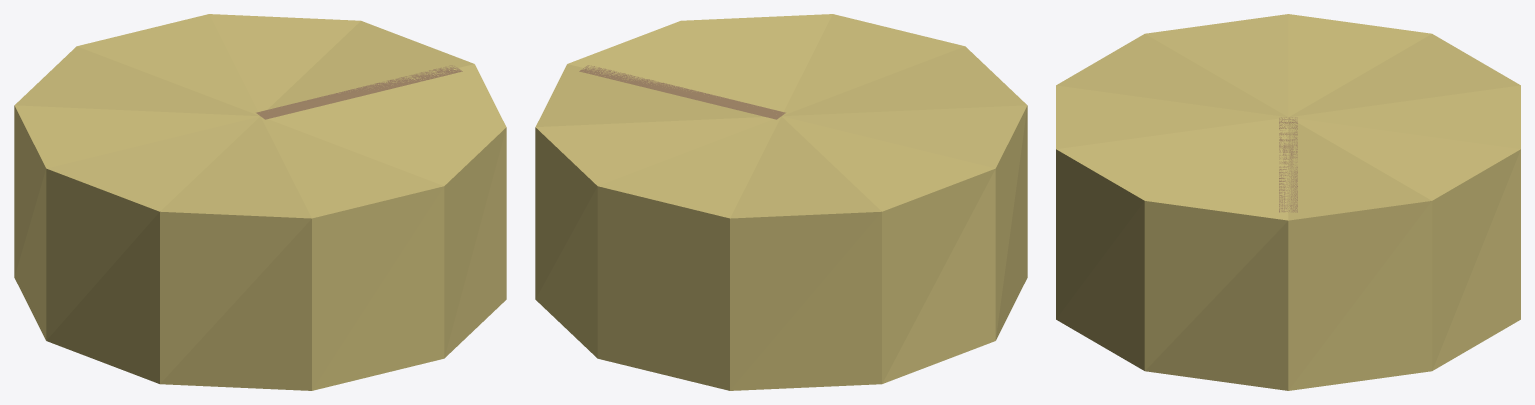
File: cheese.glb
The picture shows the model from 3 angles, left to right: view 1: azimuth 30°, elevation 25°; view 2: azimuth 150°, elevation 25°; view 3: azimuth 270°, elevation 25°; orthographic projection.
Visible parts, largest first — view 1: cheese; view 2: cheese; view 3: cheese.
Part boxes in pixels (x1,y1,x2,y2): cheese: [14, 14, 506, 390]; cheese: [535, 14, 1027, 390]; cheese: [1056, 14, 1520, 390].
Size of the model in its own units: 0.26 by 0.1 by 0.2473.
